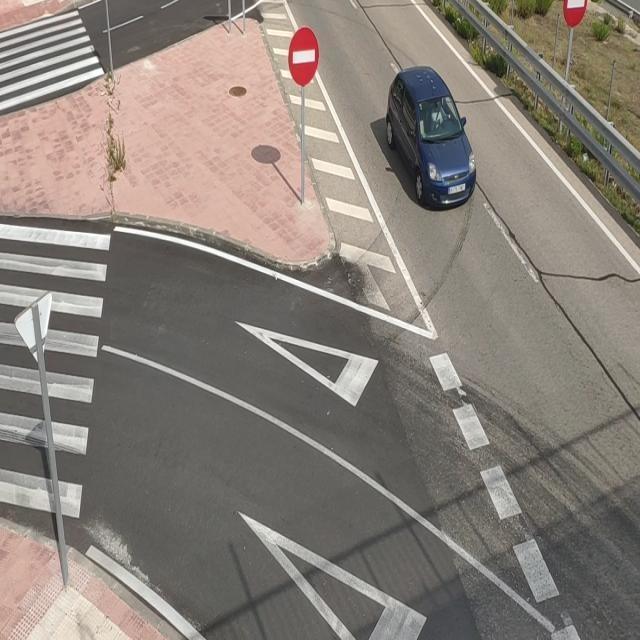Car: (384, 60, 481, 213)
